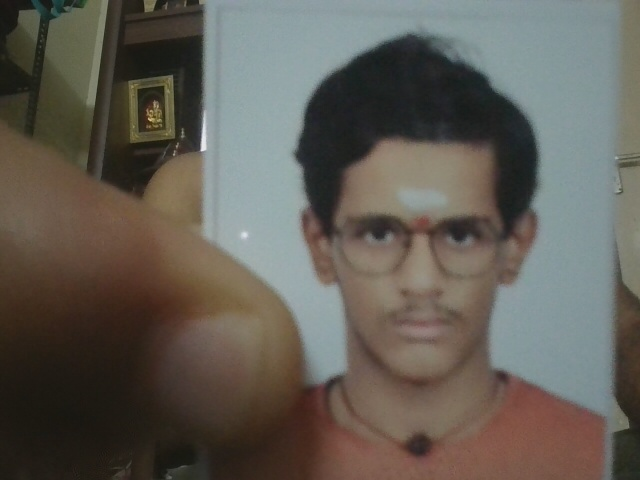fake: (292, 139, 548, 395)
